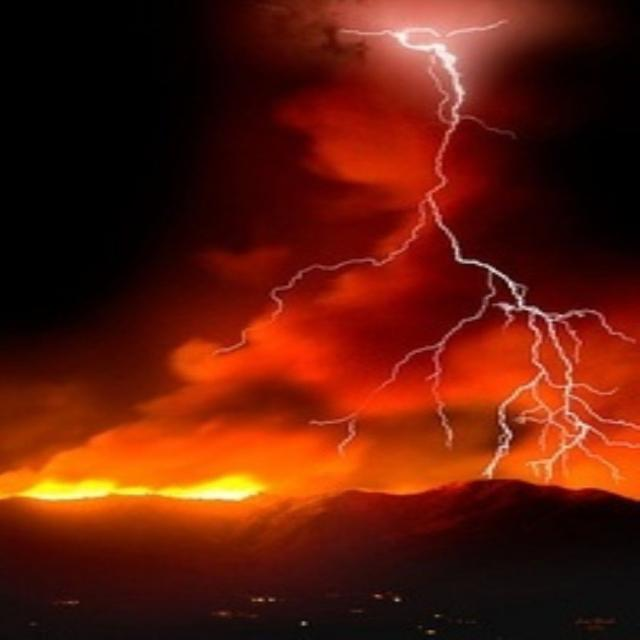Fire: (10, 470, 277, 518)
